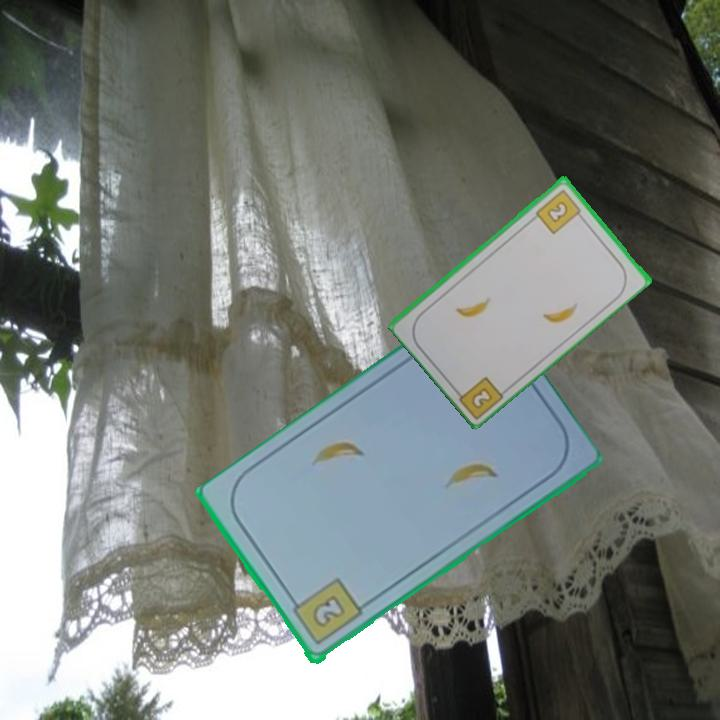2b: (286, 575, 365, 649), (532, 185, 586, 236), (451, 372, 507, 420)
